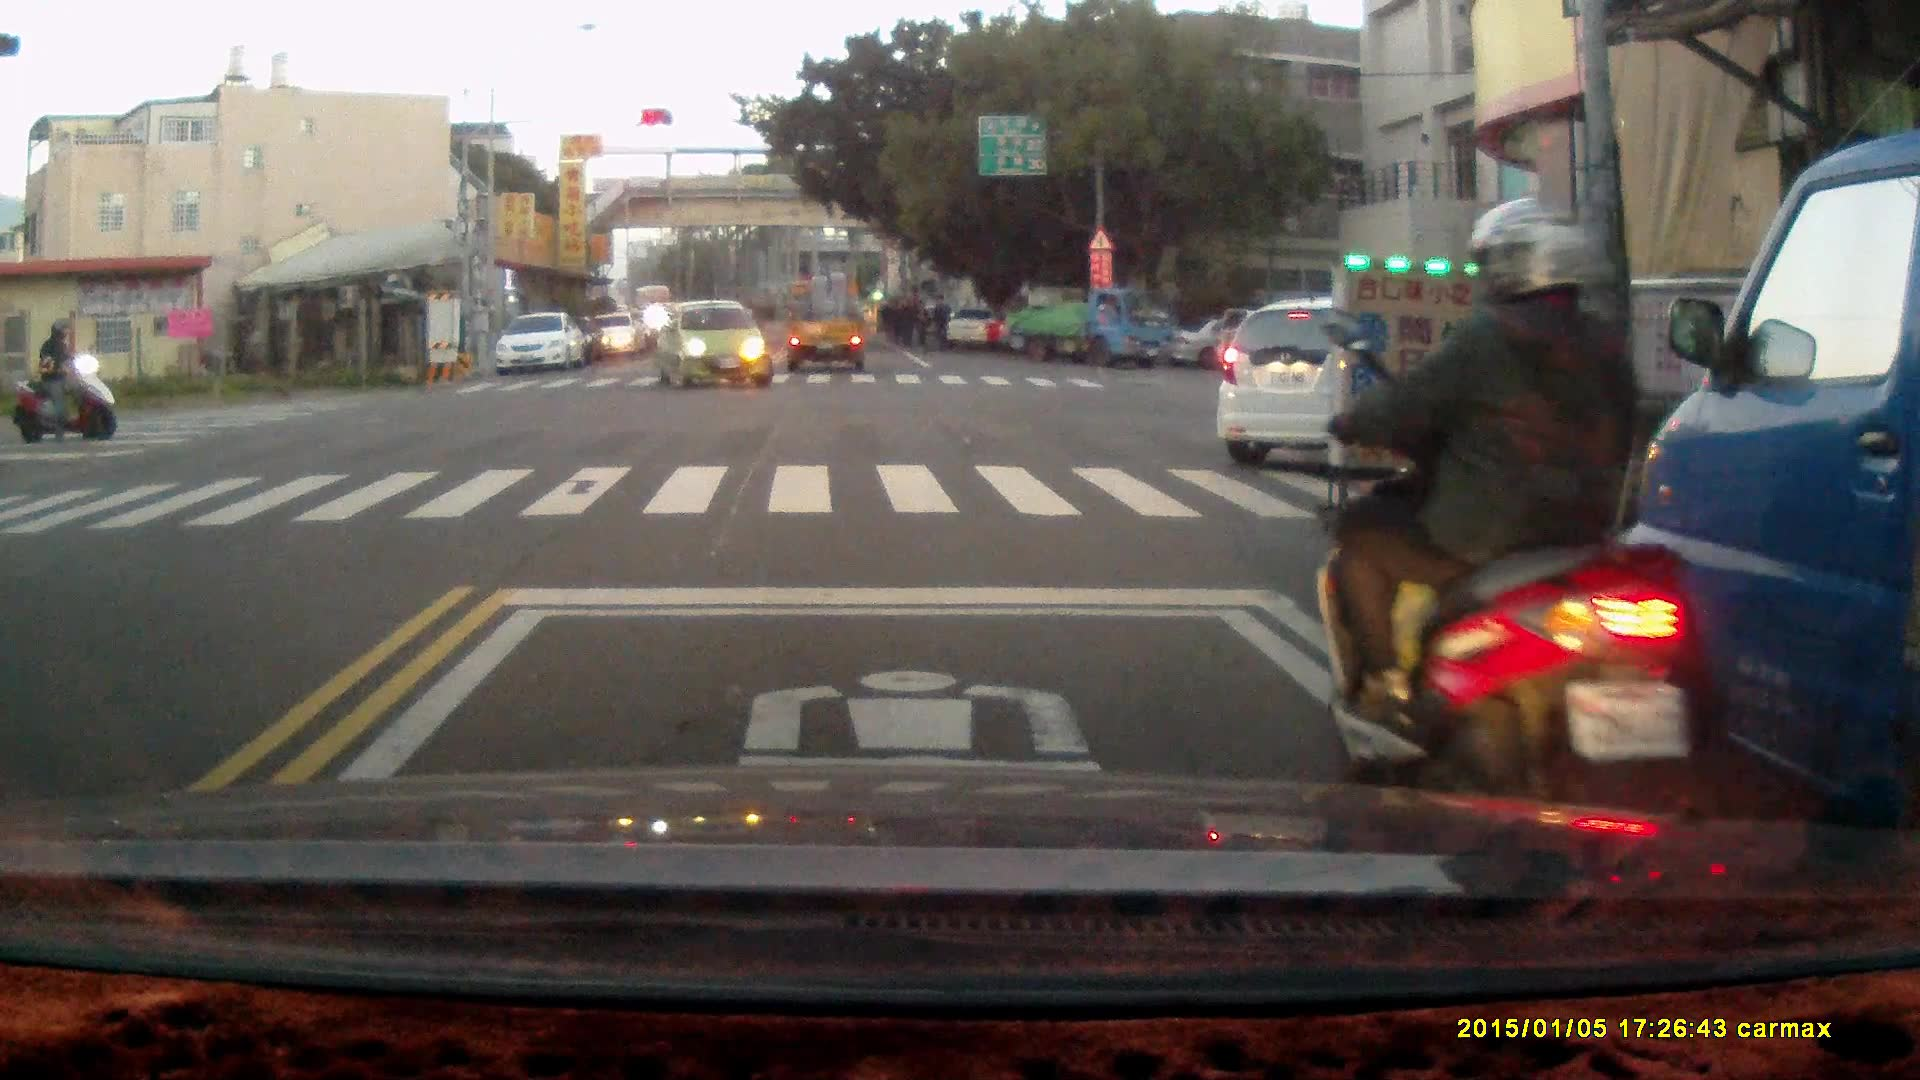rider: (1313, 194, 1696, 851), (10, 317, 119, 441)
vehicle: (1600, 132, 1920, 919), (1210, 294, 1522, 465), (1002, 284, 1175, 367), (663, 296, 776, 393), (785, 268, 870, 378), (497, 313, 587, 377), (592, 311, 642, 360)
